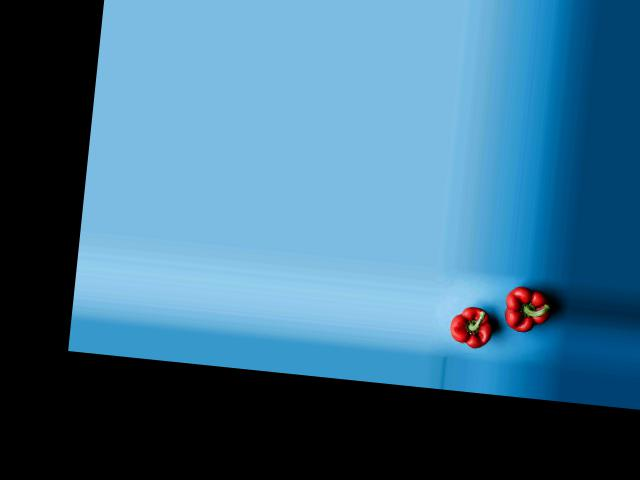bell_pepper: (493, 285, 558, 340)
